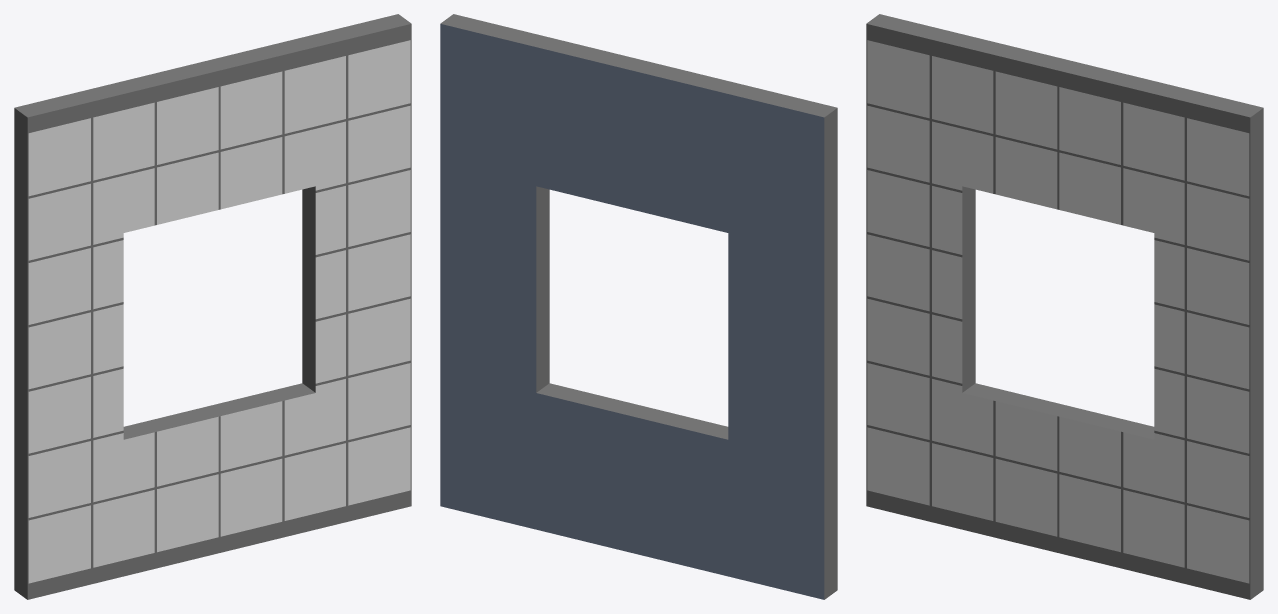
File: Wall3_C7_04.fbx
3 views of the same model, side by side, from view 1: azimuth 30°, elevation 25°; view 2: azimuth 150°, elevation 25°; view 3: azimuth 330°, elevation 25° (orthographic).
Parts seen in each view (by area): view 1: Wall3_C7_04; view 2: Wall3_C7_04; view 3: Wall3_C7_04.
Boxes of the visible parts, x1,y1,x2,y2 form: Wall3_C7_04: (14,14,411,599); Wall3_C7_04: (440,14,837,599); Wall3_C7_04: (866,14,1263,599).
Bounding box in the file's own units: 250 × 300 × 15.
